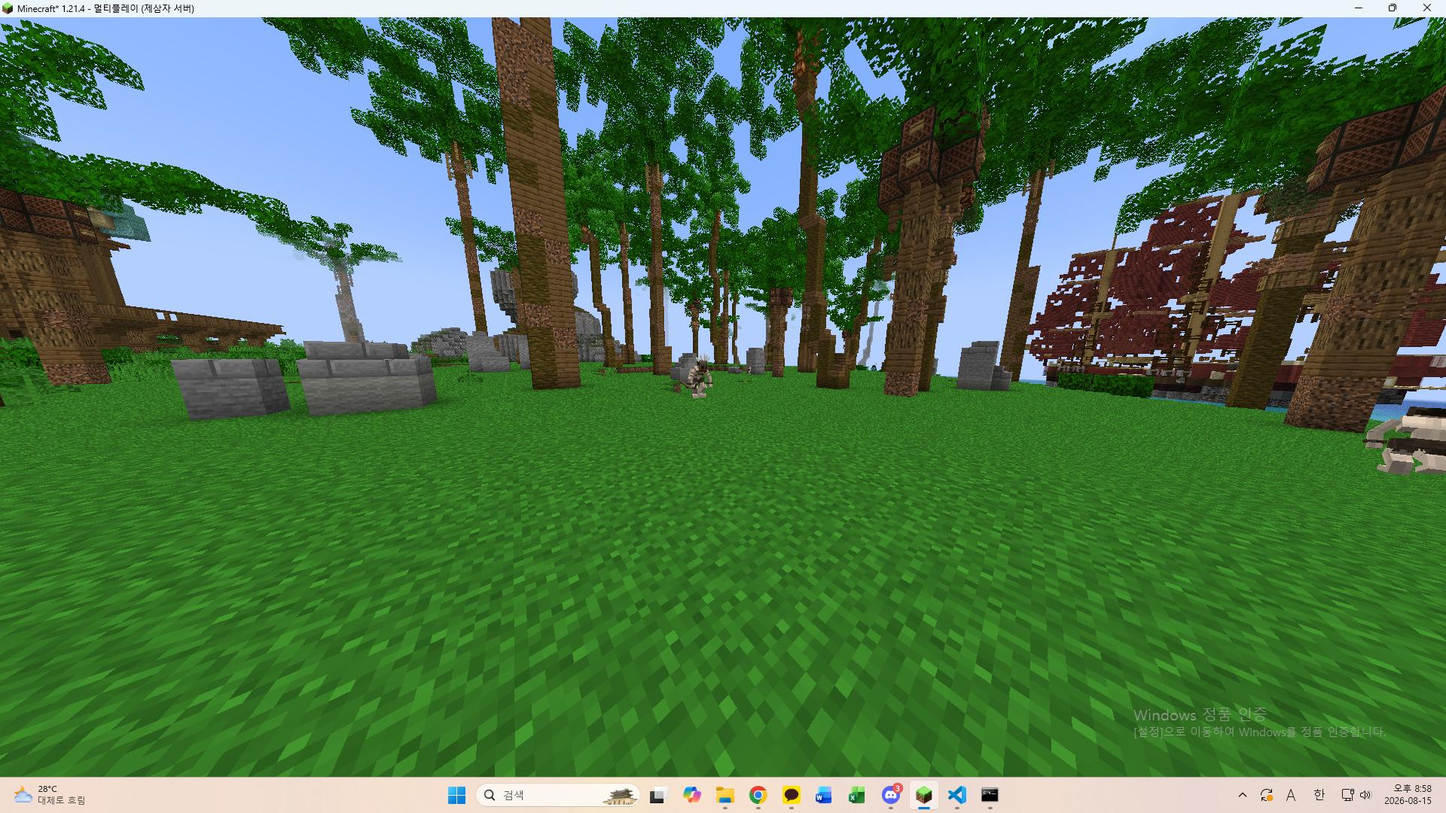bow_indian: (681, 353, 723, 413)
